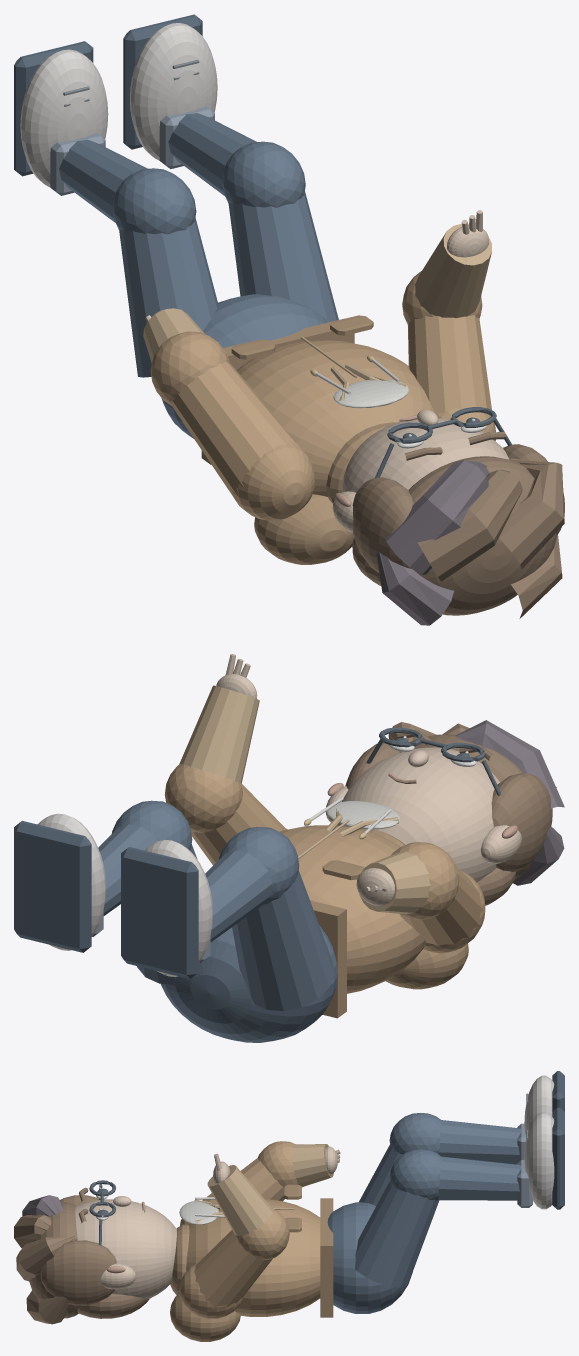
File: growth_meeting_0.glb
3 views of the same model, one above another, from view 1: azimuth 30°, elevation 25°; view 2: azimuth 150°, elevation 25°; view 3: azimuth 270°, elevation 25° (orthographic). The views are drawn at different scales.
Visible parts, largest first — view 1: 0000__hoodie_main_torso, 0065__jeans_thigh, 0046__jeans_thigh, 0057__sleeve_upper, 0050__sneaker, 0069__sneaker, 0076__sleeve_upper, 0022__hair_crown, 0017__face_head, 0026__hair_lock_0, 0027__hair_lock_1, 0014__pants_pelvis (+22 smaller); view 2: 0017__face_head, 0000__hoodie_main_torso, 0046__jeans_thigh, 0070__rubber_sole, 0051__rubber_sole, 0014__pants_pelvis, 0078__sleeve_forearm, 0024__temple_side, 0048__jeans_shin, 0077__elbow_fold, 0047__knee_fold, 0057__sleeve_upper (+22 smaller); view 3: 0000__hoodie_main_torso, 0017__face_head, 0065__jeans_thigh, 0014__pants_pelvis, 0025__temple_side, 0076__sleeve_upper, 0067__jeans_shin, 0048__jeans_shin, 0078__sleeve_forearm, 0069__sneaker, 0066__knee_fold, 0047__knee_fold (+21 smaller).
Part boxes in pixels (x1=…): 0000__hoodie_main_torso: x1=236, y1=340, x2=433, y2=496; 0065__jeans_thigh: x1=228, y1=192, x2=338, y2=322; 0046__jeans_thigh: x1=119, y1=218, x2=218, y2=377; 0057__sleeve_upper: x1=172, y1=361, x2=296, y2=497; 0050__sneaker: x1=20, y1=49, x2=108, y2=187; 0069__sneaker: x1=130, y1=23, x2=217, y2=160; 0076__sleeve_upper: x1=408, y1=315, x2=491, y2=413; 0022__hair_crown: x1=408, y1=456, x2=556, y2=615; 0017__face_head: x1=342, y1=418, x2=509, y2=492; 0026__hair_lock_0: x1=385, y1=460, x2=489, y2=574; 0027__hair_lock_1: x1=417, y1=469, x2=522, y2=581; 0014__pants_pelvis: x1=161, y1=294, x2=328, y2=438; 0017__face_head: x1=338, y1=747, x2=499, y2=882; 0000__hoodie_main_torso: x1=280, y1=825, x2=425, y2=993; 0046__jeans_thigh: x1=232, y1=870, x2=334, y2=1010; 0070__rubber_sole: x1=14, y1=820, x2=91, y2=952; 0051__rubber_sole: x1=121, y1=847, x2=198, y2=978; 0014__pants_pelvis: x1=161, y1=925, x2=337, y2=1042; 0078__sleeve_forearm: x1=179, y1=685, x2=259, y2=783; 0024__temple_side: x1=491, y1=773, x2=552, y2=871; 0048__jeans_shin: x1=205, y1=850, x2=272, y2=941; 0077__elbow_fold: x1=164, y1=764, x2=242, y2=832; 0047__knee_fold: x1=218, y1=827, x2=299, y2=904; 0057__sleeve_upper: x1=400, y1=867, x2=483, y2=945; 0000__hoodie_main_torso: x1=186, y1=1199, x2=320, y2=1316; 0017__face_head: x1=75, y1=1199, x2=176, y2=1298; 0065__jeans_thigh: x1=355, y1=1181, x2=439, y2=1287; 0014__pants_pelvis: x1=327, y1=1202, x2=412, y2=1313; 0025__temple_side: x1=40, y1=1240, x2=116, y2=1305; 0076__sleeve_upper: x1=194, y1=1230, x2=272, y2=1309; 0067__jeans_shin: x1=438, y1=1156, x2=521, y2=1200; 0048__jeans_shin: x1=438, y1=1120, x2=521, y2=1164; 0078__sleeve_forearm: x1=207, y1=1165, x2=273, y2=1236; 0069__sneaker: x1=524, y1=1112, x2=554, y2=1209; 0066__knee_fold: x1=389, y1=1149, x2=441, y2=1200; 0047__knee_fold: x1=389, y1=1113, x2=441, y2=1154.
Size of the model in its own units: 0.81 by 0.8228 by 1.85.
